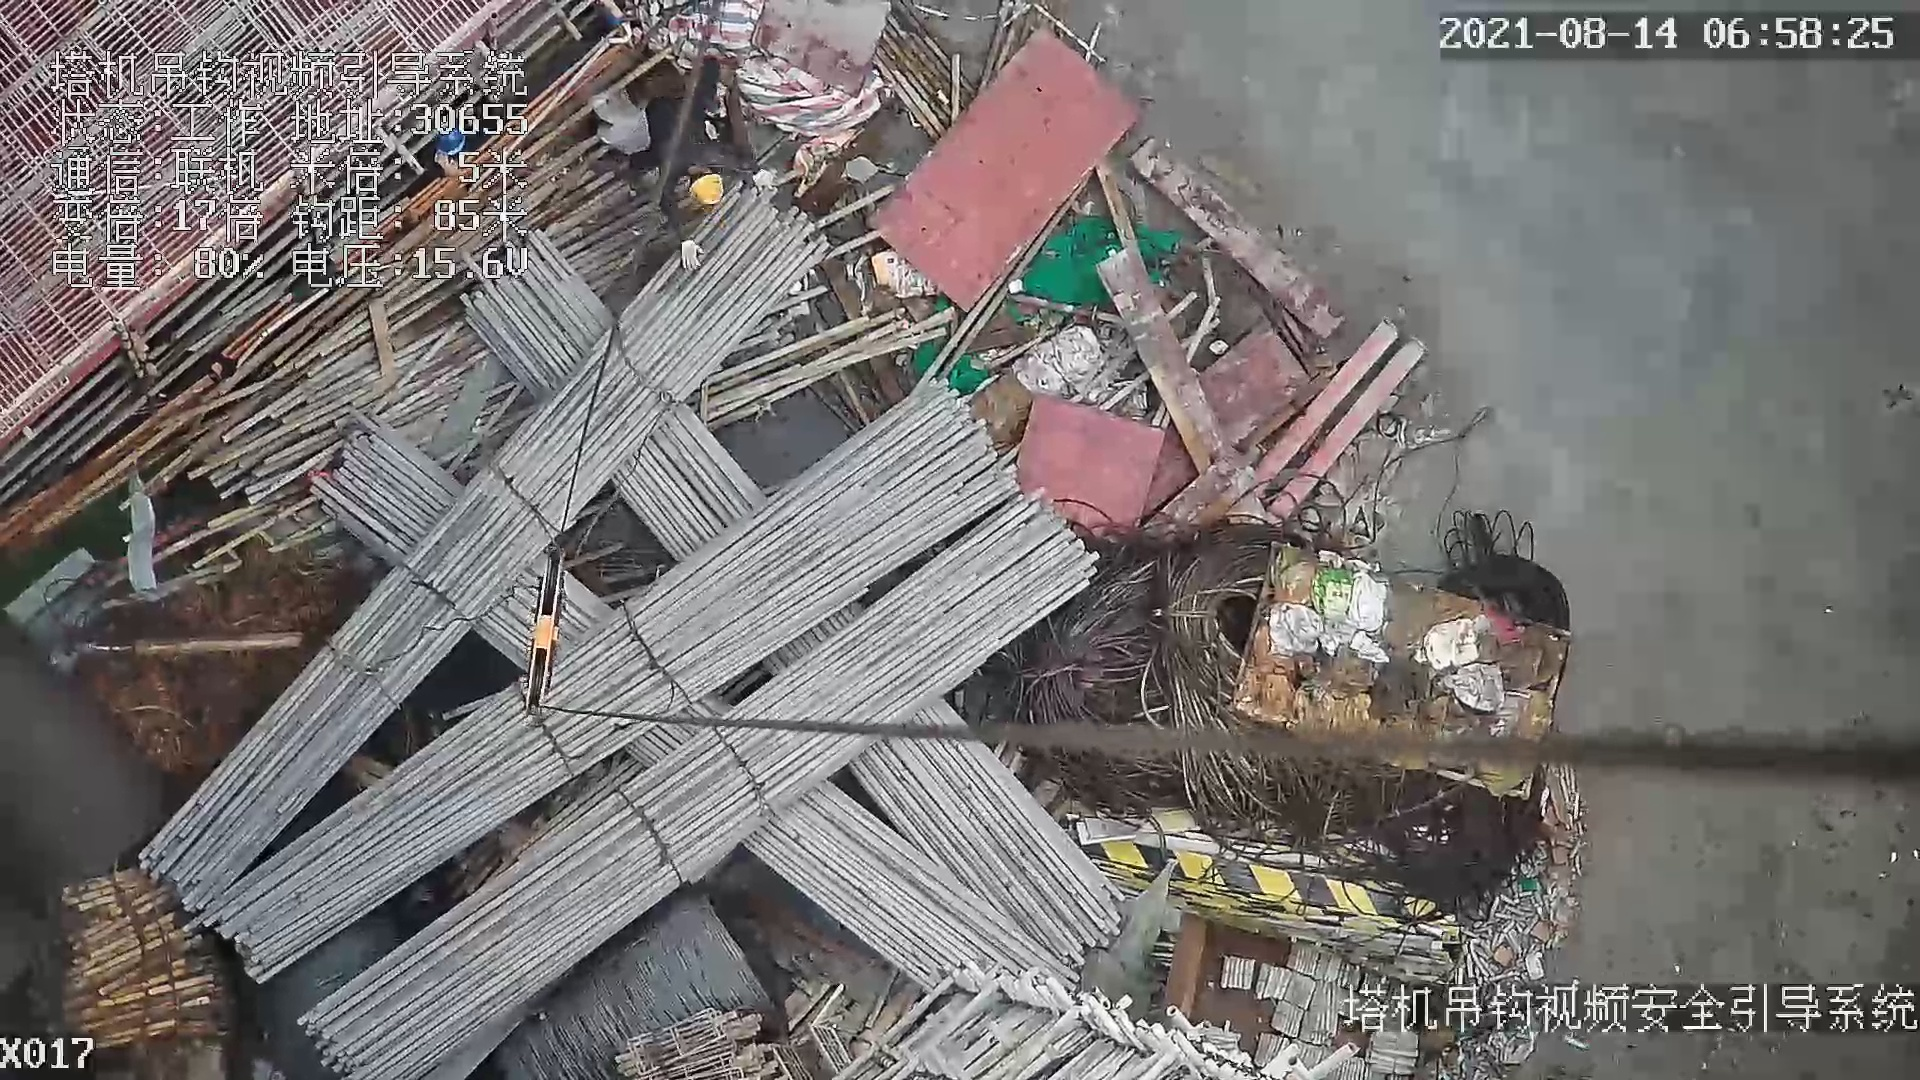helmet: (688, 174, 723, 205)
hook: (520, 540, 556, 718)
person: (629, 95, 779, 273)
rebar: (139, 185, 828, 915), (204, 379, 1017, 983), (296, 487, 1100, 1080), (742, 780, 1081, 996), (847, 699, 1120, 954)
scaffold: (59, 866, 240, 1049)
